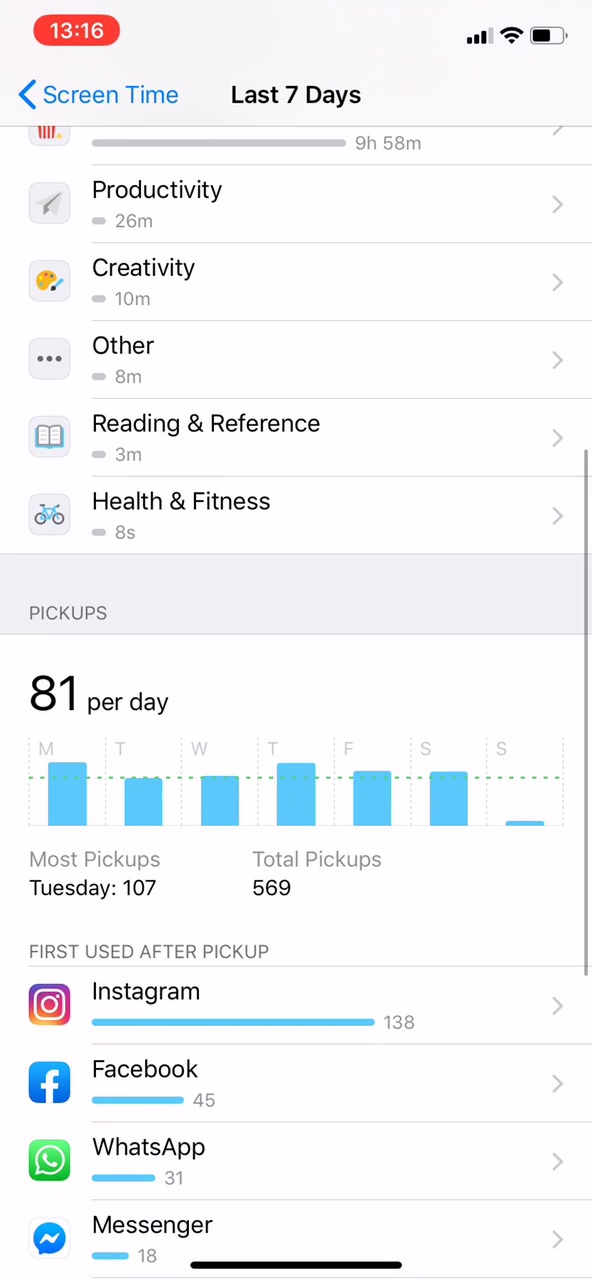pick_app: (22, 969, 451, 1038), (15, 1128, 254, 1199), (18, 1047, 256, 1117)
pick_over: (18, 849, 431, 922)
week: (204, 77, 384, 116)
